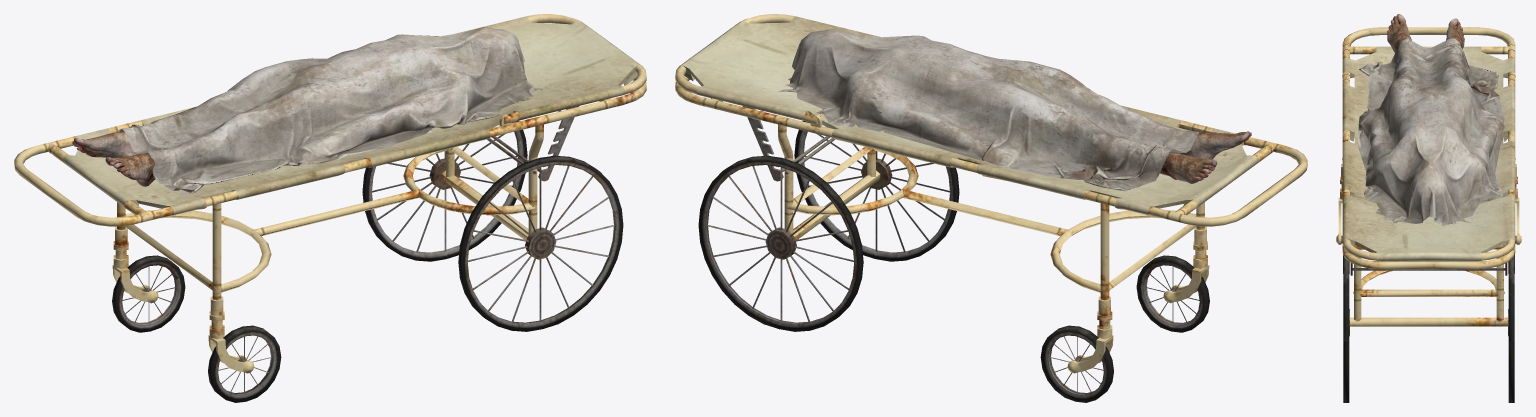
Rendered from sh-brancard.glb.
The picture shows the model from 3 angles, left to right: view 1: azimuth 30°, elevation 25°; view 2: azimuth 150°, elevation 25°; view 3: azimuth 270°, elevation 25°; orthographic projection. The views are drawn at different scales.
Parts seen in each view (by area): view 1: brancard, drap, pieds; view 2: brancard, drap, pieds; view 3: brancard, drap, pieds.
Part boxes in pixels (x1=…): brancard: x1=14, y1=14, x2=646, y2=402; drap: x1=119, y1=27, x2=543, y2=194; pieds: x1=72, y1=131, x2=155, y2=186; brancard: x1=675, y1=14, x2=1307, y2=402; drap: x1=778, y1=28, x2=1204, y2=191; pieds: x1=1160, y1=131, x2=1251, y2=183; brancard: x1=1336, y1=27, x2=1521, y2=402; drap: x1=1358, y1=38, x2=1504, y2=226; pieds: x1=1387, y1=14, x2=1464, y2=52.
Bounding box in the file's own units: 2.05 × 0.9442 × 0.6762.
Materials: 3 (3 with a texture image).
